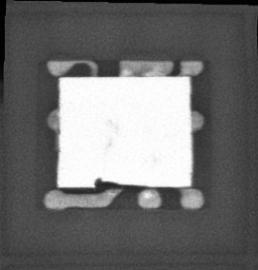DIE_BROKEN: (92, 176, 152, 190)
